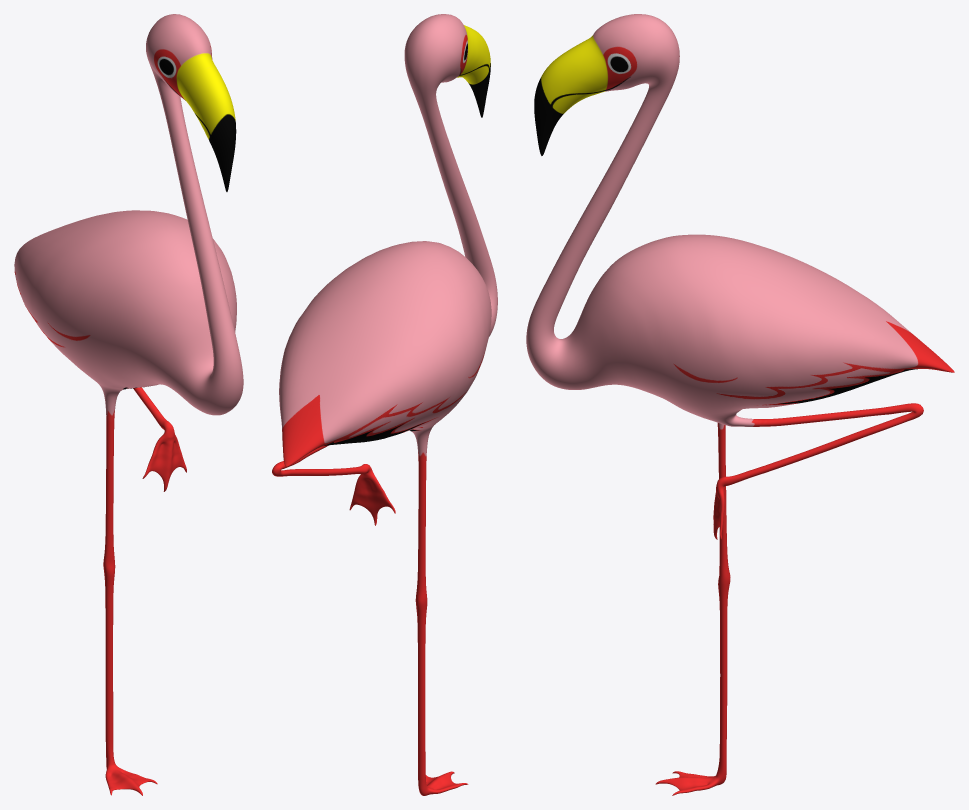
File: flamingo_3d.glb
3 renders of one model, left to right at view 1: azimuth 30°, elevation 25°; view 2: azimuth 150°, elevation 25°; view 3: azimuth 270°, elevation 25°, orthographic. The views are drawn at different scales.
Visible parts, largest first — view 1: flamingo.1_1; view 2: flamingo.1_1; view 3: flamingo.1_1.
Boxes of the visible parts, x1,y1,x2,y2 form: flamingo.1_1: [14, 14, 243, 795]; flamingo.1_1: [272, 14, 497, 795]; flamingo.1_1: [526, 14, 954, 795].
Size of the model in its own units: 0.0408 by 0.1802 by 0.0894.
Materials: 1 (1 with a texture image).
